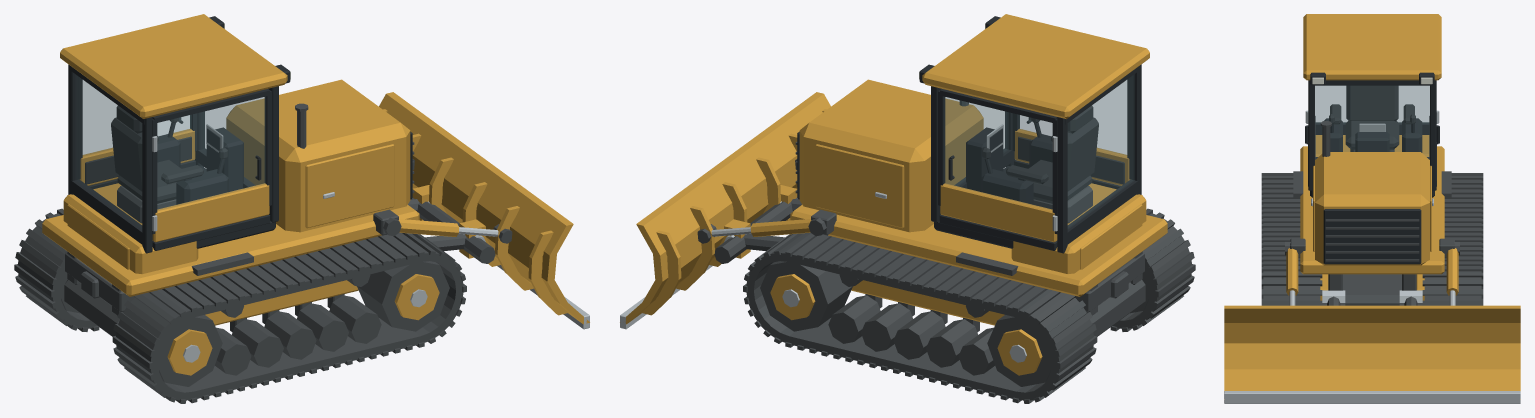
3 views of the same model, side by side, from view 1: azimuth 30°, elevation 25°; view 2: azimuth 150°, elevation 25°; view 3: azimuth 270°, elevation 25° (orthographic). The views are drawn at different scales.
Parts seen in each view (by area): view 1: cab_roof, right_continuous_track, engine_block_cover, blade_moldboard, door_glass_-1, chassis_deck, cab_glazing_-1.34, engine_service_panel_-1, door_lower_-1, right_endwheel_1, rear_body, cab_glazing_-0.04 (+37 smaller); view 2: cab_roof, left_continuous_track, engine_block_cover, blade_moldboard, door_glass_1, chassis_deck, cab_glazing_-1.34, engine_service_panel_1, door_lower_1, left_endwheel_1, rear_body, cab_glazing_-0.04 (+37 smaller); view 3: blade_moldboard, cab_roof, engine_block_cover, cab_glazing_-0.04, nose_radiator_backing, blade_cutting_edge, chassis_deck, seat_back, belly_pan, right_continuous_track, left_continuous_track, cab_glazing_-1.34 (+27 smaller).
Boxes of the visible parts, x1,y1,x2,y2 form: cab_roof: (60, 14, 287, 118); right_continuous_track: (116, 232, 463, 400); engine_block_cover: (226, 79, 410, 232); blade_moldboard: (379, 92, 589, 324); door_glass_-1: (157, 97, 265, 209); chassis_deck: (42, 204, 419, 296); cab_glazing_-1.34: (76, 75, 141, 227); engine_service_panel_-1: (305, 144, 394, 228); door_lower_-1: (152, 183, 269, 242); right_endwheel_1: (357, 261, 449, 331); rear_body: (63, 183, 198, 273); cab_glazing_-0.04: (203, 97, 263, 185); cab_roof: (922, 14, 1149, 118); left_continuous_track: (746, 232, 1093, 400); engine_block_cover: (799, 79, 983, 232); blade_moldboard: (620, 92, 830, 324); door_glass_1: (944, 97, 1052, 209); chassis_deck: (790, 204, 1167, 296); cab_glazing_-1.34: (1068, 75, 1133, 227); engine_service_panel_1: (815, 144, 904, 228); door_lower_1: (940, 183, 1057, 242); left_endwheel_1: (760, 261, 852, 331); rear_body: (1011, 183, 1146, 273); cab_glazing_-0.04: (946, 97, 1006, 185); blade_moldboard: (1224, 305, 1520, 399); cab_roof: (1303, 14, 1441, 80); engine_block_cover: (1315, 152, 1429, 265); cab_glazing_-0.04: (1315, 86, 1429, 159); nose_radiator_backing: (1323, 209, 1421, 264); blade_cutting_edge: (1224, 391, 1520, 403); chassis_deck: (1300, 146, 1444, 274); seat_back: (1346, 85, 1398, 121); belly_pan: (1343, 274, 1401, 305); right_continuous_track: (1263, 179, 1320, 300); left_continuous_track: (1424, 179, 1481, 300); cab_glazing_-1.34: (1315, 86, 1429, 122).
Size of the model in its own units: 4.31 by 2.77 by 3.22.
